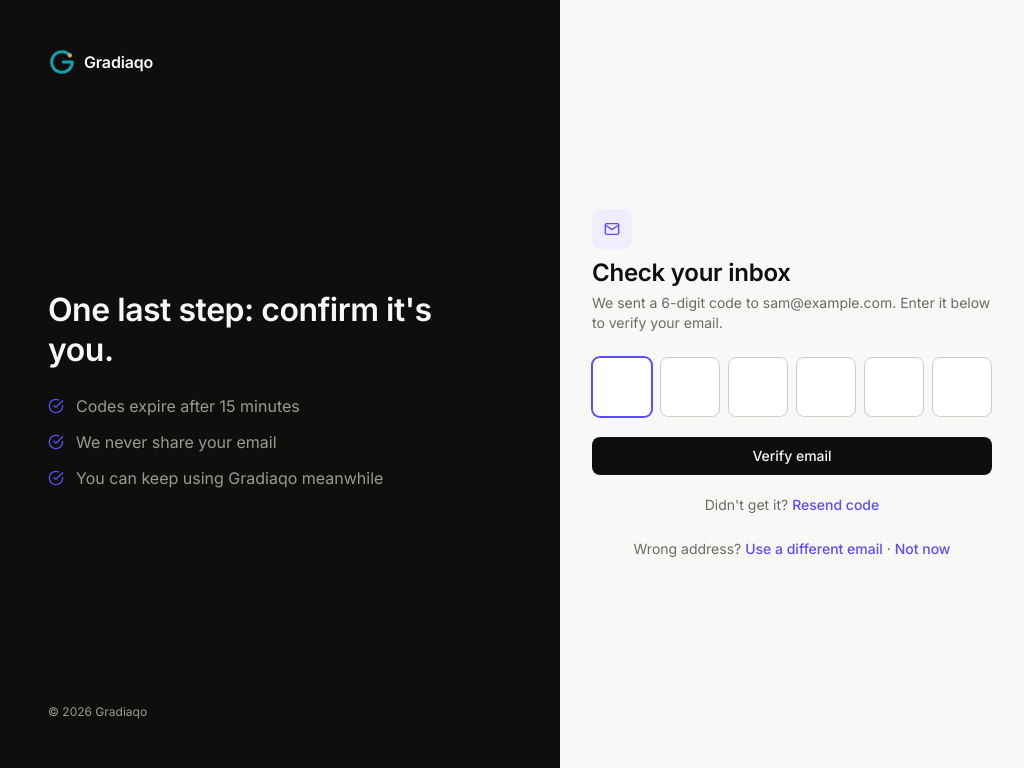
Test: Changing the email › opens from Verify email's "Use a different email"
Click the link "Use a different email". click: point(814, 548)
box: 745,540 -> 883,557
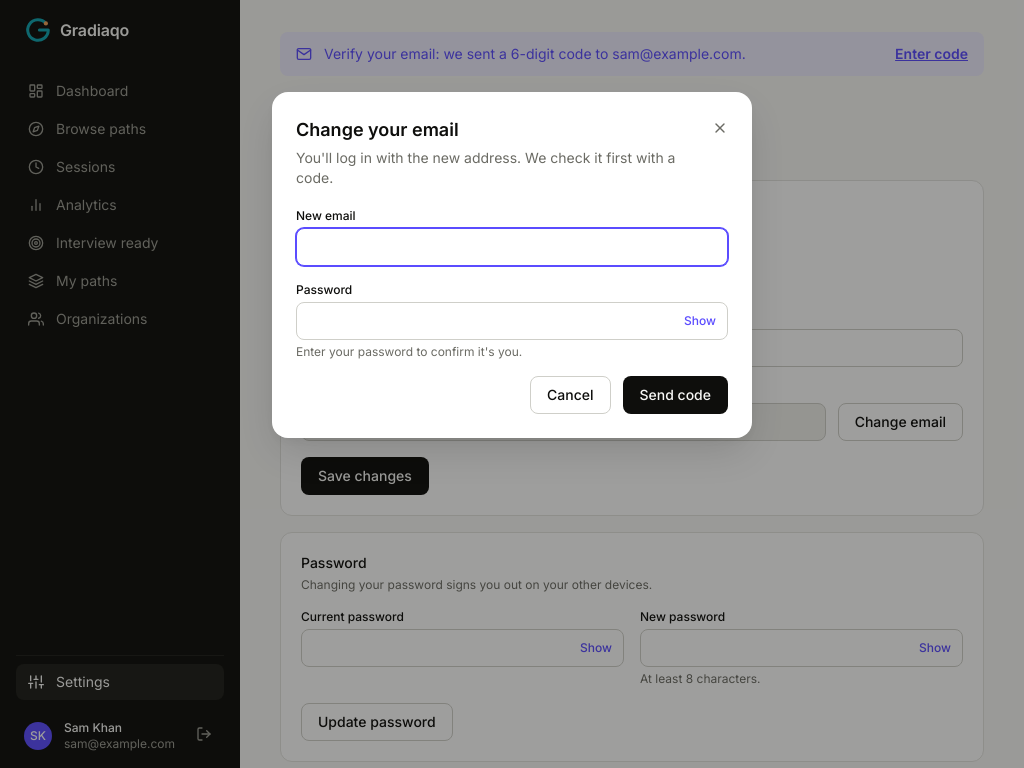
Check: the dialog "Change your email" is shown, box 272,92 -> 752,438
